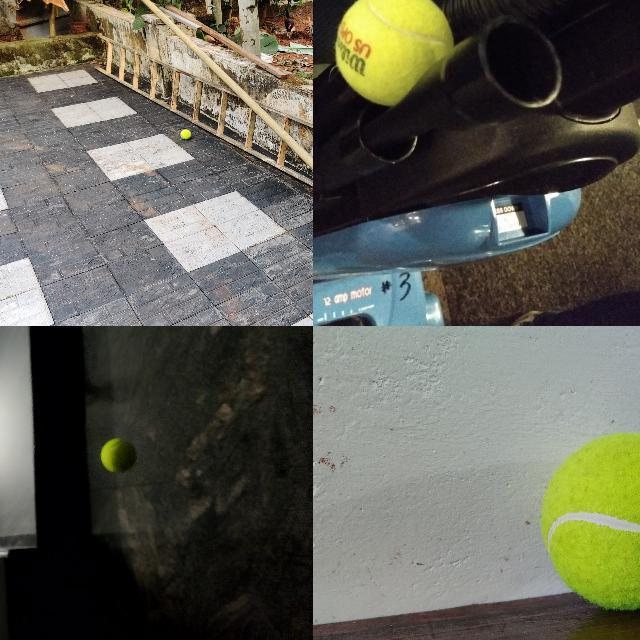tennis-ball: (540, 432, 639, 611), (333, 0, 456, 48), (100, 438, 137, 473), (180, 129, 191, 139)
